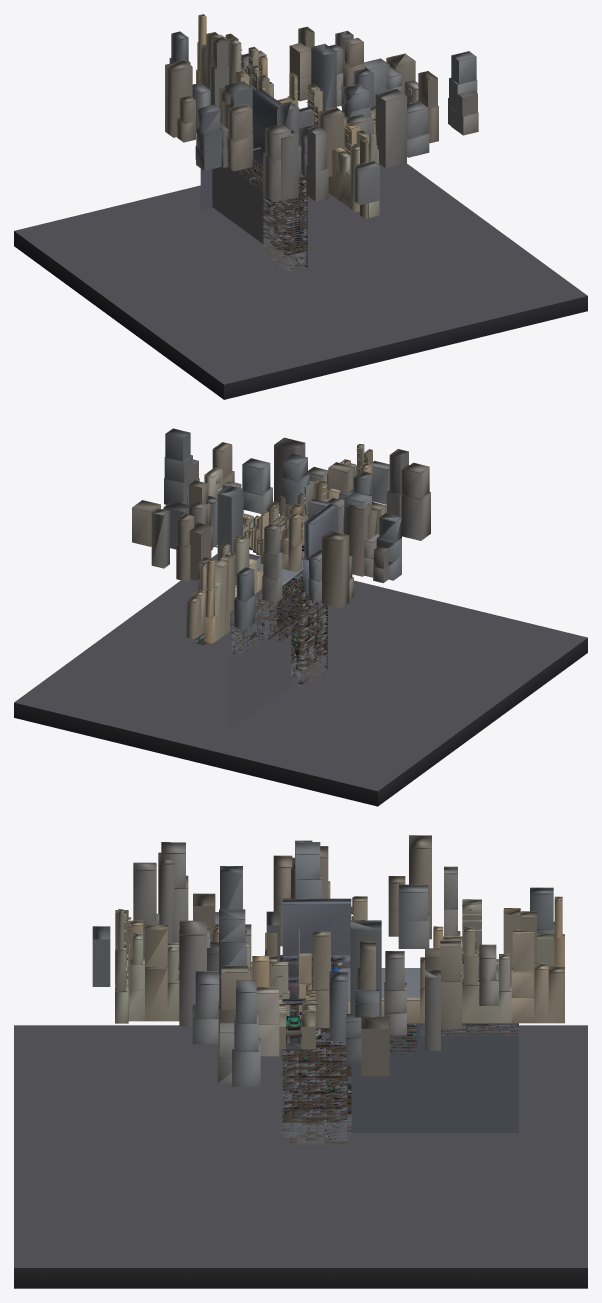
The model's file is near.glb.
3 views of the same model, one above another, from view 1: azimuth 30°, elevation 25°; view 2: azimuth 150°, elevation 25°; view 3: azimuth 270°, elevation 25° (orthographic). The views are drawn at different scales.
Parts seen in each view (by area): view 1: near-placeholder; view 2: near-placeholder; view 3: near-placeholder.
Boxes of the visible parts, x1,y1,x2,y2 form: near-placeholder: (14,14,587,399); near-placeholder: (14,428,587,806); near-placeholder: (14,835,587,1288).
Size of the model in its own units: 500 by 289 by 500.
